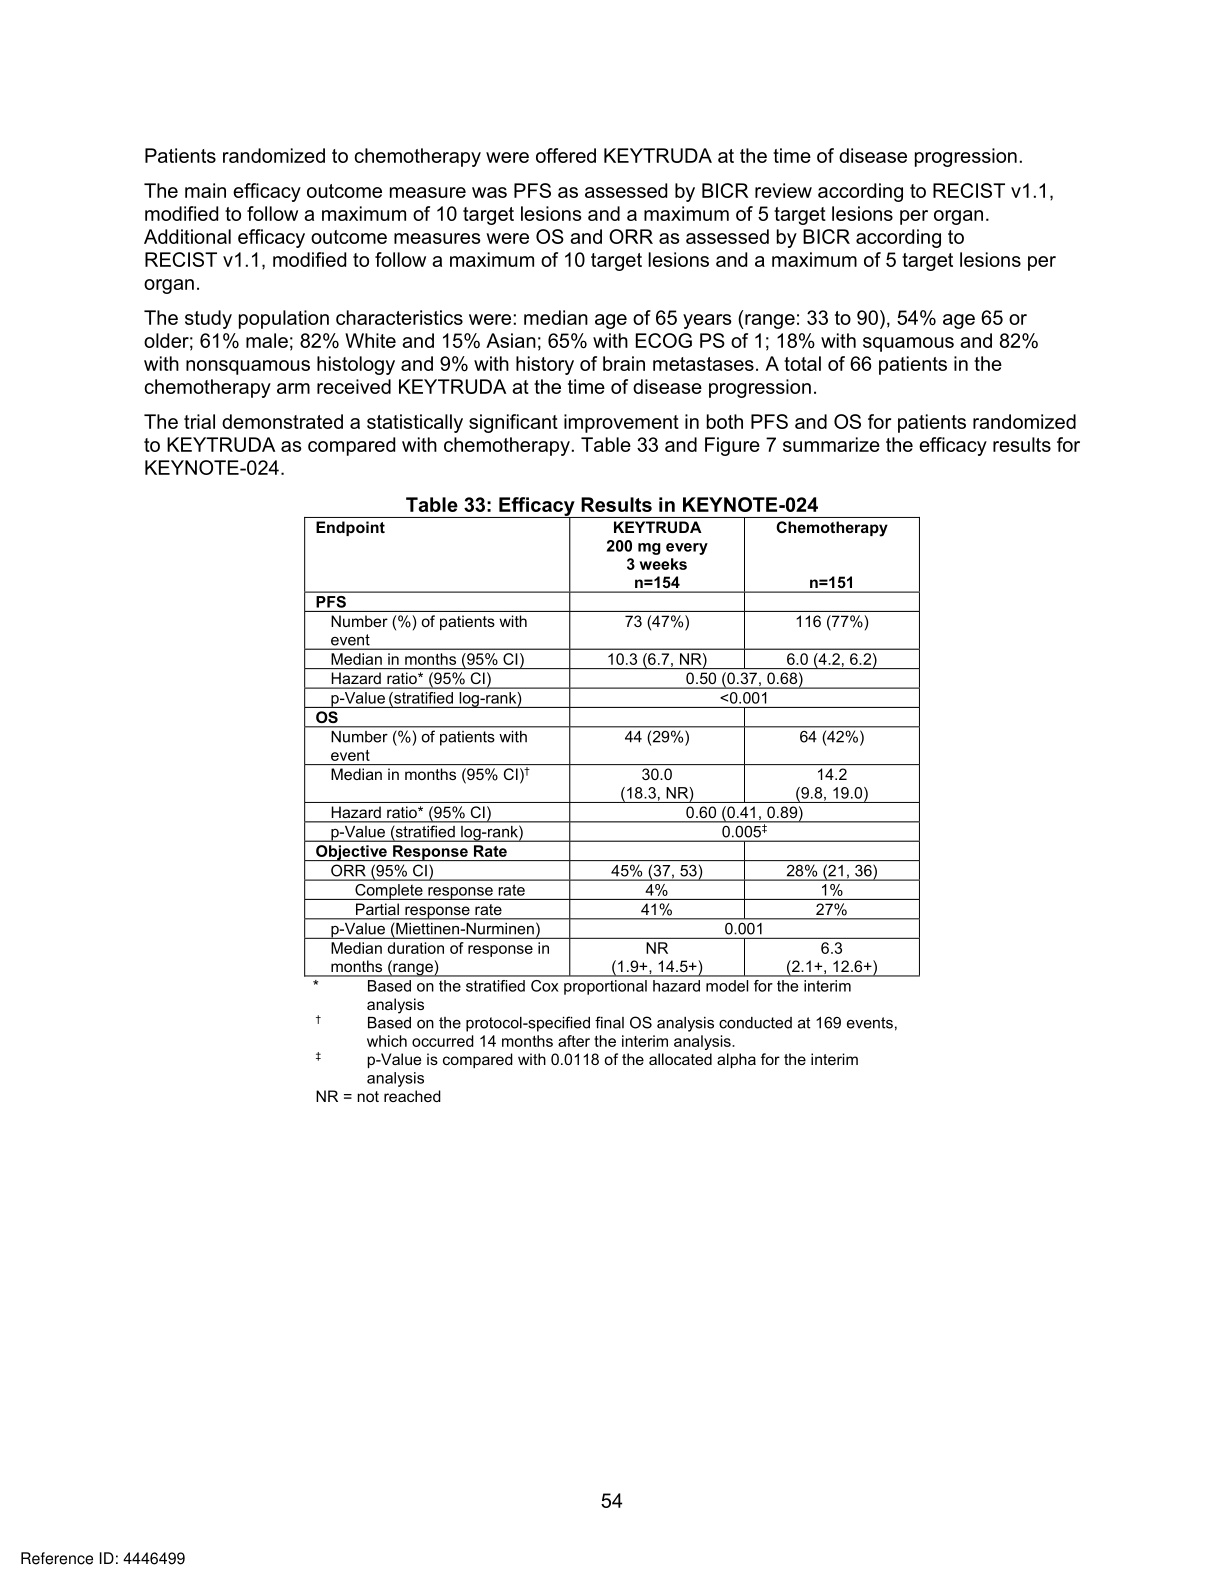merged_cells: (303, 516, 921, 977)
